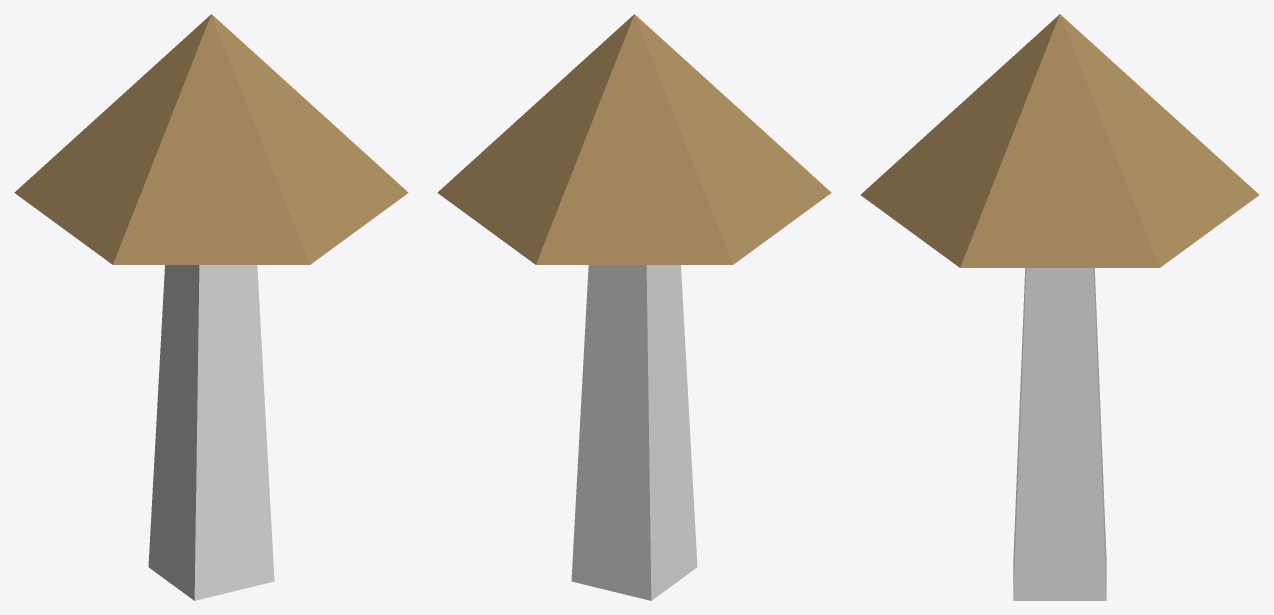
The model's file is Mushroom_Tall_01.obj.
3 renders of one model, left to right at view 1: azimuth 30°, elevation 25°; view 2: azimuth 150°, elevation 25°; view 3: azimuth 270°, elevation 25°, orthographic.
Parts seen in each view (by area): view 1: Mesh1_Mushroom_Tall_Model; view 2: Mesh1_Mushroom_Tall_Model; view 3: Mesh1_Mushroom_Tall_Model.
Part boxes in pixels (x1,y1,x2,y2): Mesh1_Mushroom_Tall_Model: (14, 14, 408, 600); Mesh1_Mushroom_Tall_Model: (437, 14, 831, 600); Mesh1_Mushroom_Tall_Model: (860, 14, 1259, 600).
Size of the model in its own units: 0.4349 by 0.787 by 0.5022.
